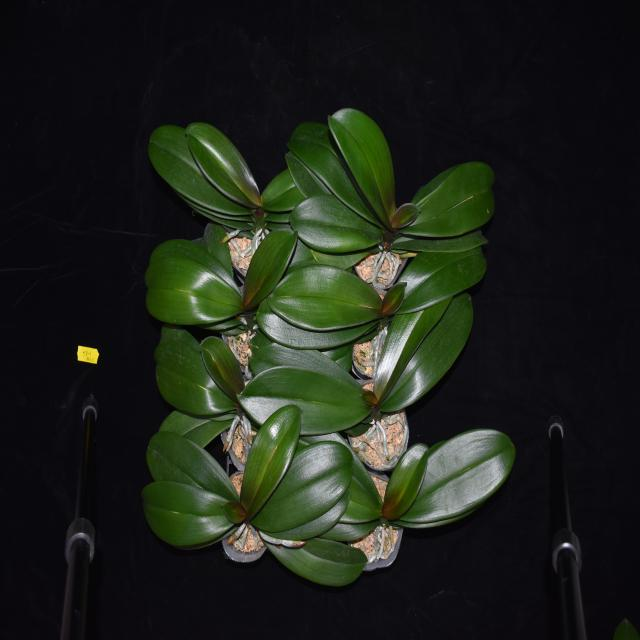leaf: (391, 427, 515, 530), (380, 291, 476, 417), (150, 128, 255, 235), (288, 118, 384, 228), (252, 439, 354, 533), (236, 366, 374, 435), (373, 288, 452, 408), (292, 426, 387, 518), (329, 105, 397, 228), (183, 117, 267, 213), (268, 265, 385, 332), (391, 239, 487, 320), (156, 320, 237, 414), (403, 163, 498, 238), (243, 404, 303, 522), (246, 331, 360, 391), (256, 294, 378, 348), (142, 484, 242, 548), (144, 430, 238, 498), (142, 263, 244, 325), (290, 195, 387, 252), (257, 537, 371, 585), (148, 235, 240, 292), (243, 224, 298, 310), (263, 488, 351, 539), (379, 443, 427, 520), (385, 225, 496, 255), (156, 407, 234, 446), (200, 333, 241, 398), (196, 221, 242, 276), (284, 151, 331, 200), (306, 239, 374, 272), (260, 174, 302, 212), (319, 516, 380, 542), (382, 273, 407, 319), (392, 198, 422, 228), (219, 498, 248, 528), (359, 378, 378, 408)
